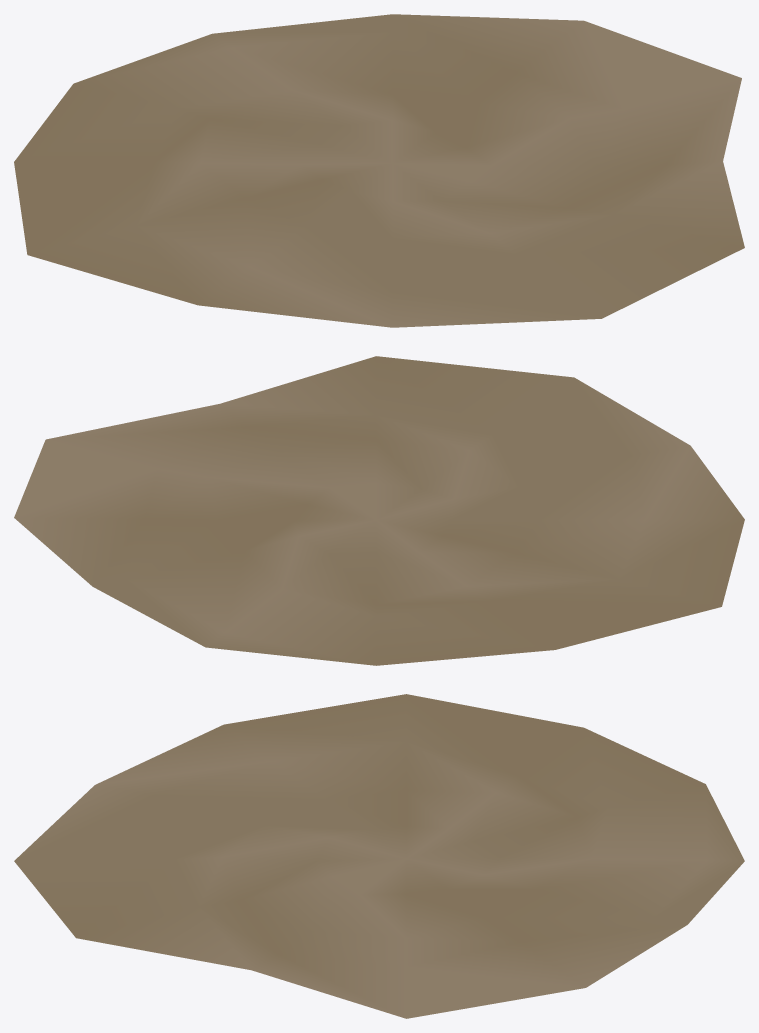
Rendered from dirt_patch.glb.
3 renders of one model, top to bottom at view 1: azimuth 30°, elevation 25°; view 2: azimuth 150°, elevation 25°; view 3: azimuth 270°, elevation 25°, orthographic. The views are drawn at different scales.
Visible parts, largest first — view 1: DirtPatch; view 2: DirtPatch; view 3: DirtPatch.
Boxes of the visible parts, x1,y1,x2,y2 form: DirtPatch: (14,14,744,327); DirtPatch: (14,356,744,665); DirtPatch: (14,694,744,1018).
Size of the model in its own units: 2.66 by 0.0194 by 2.52.
